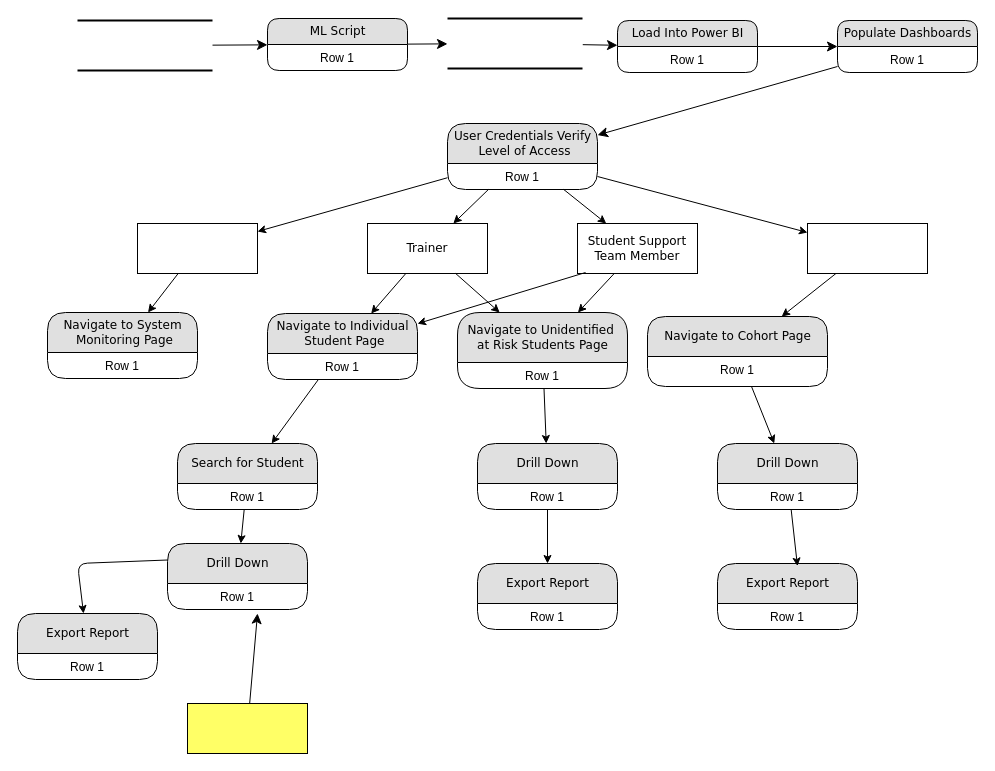
Some shapes in this 995 by 771 pixel diagram are drawn without their labels. Here are the shapes that lost their labels. From the top down, the centre of each, then its label:
At point (144, 45): "Student Information System".
At point (514, 43): "ML Script Output".
At point (197, 248): "Data Engineer".
At point (867, 248): "School/District Admin".
At point (247, 728): "Test".
